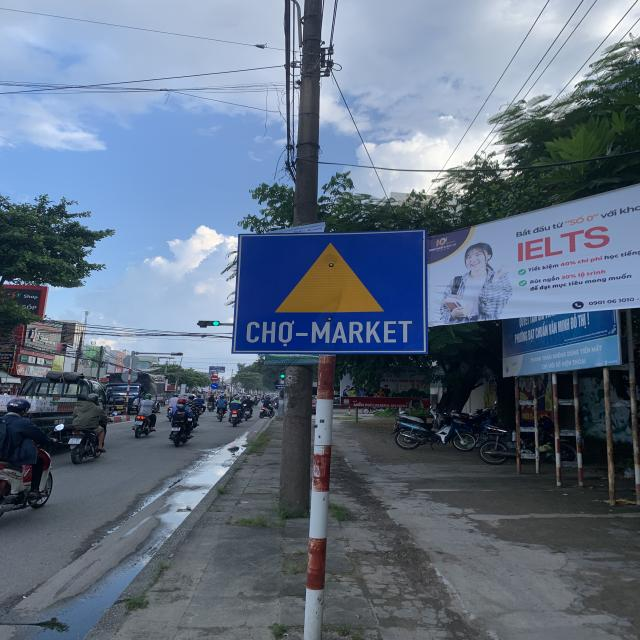Cho_Quay_Xe: (233, 228, 431, 356)
